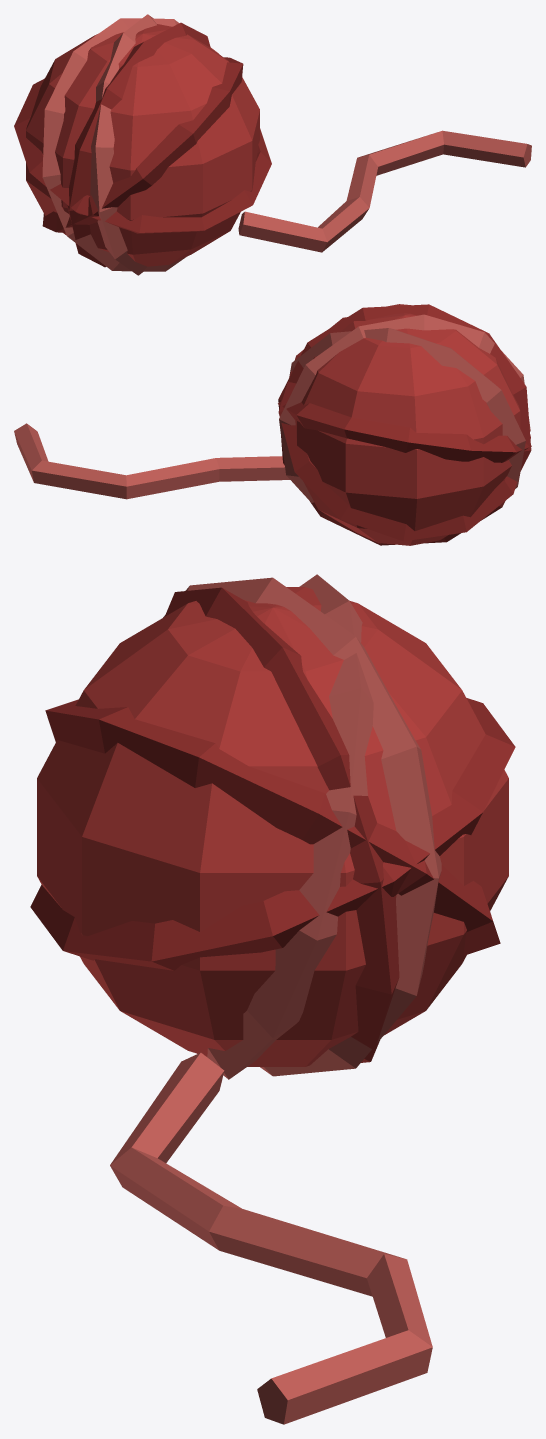
Rendered from yarn-ball.glb.
The picture shows the model from 3 angles, top to bottom: view 1: azimuth 30°, elevation 25°; view 2: azimuth 150°, elevation 25°; view 3: azimuth 270°, elevation 25°; orthographic projection. The views are drawn at different scales.
Visible parts, largest first — view 1: yarn-ball; view 2: yarn-ball; view 3: yarn-ball.
Part boxes in pixels (x1,y1,x2,y2): yarn-ball: [14, 14, 531, 275]; yarn-ball: [14, 304, 531, 545]; yarn-ball: [30, 574, 515, 1424].
Size of the model in its own units: 0.4997 by 0.2206 by 0.2105.
